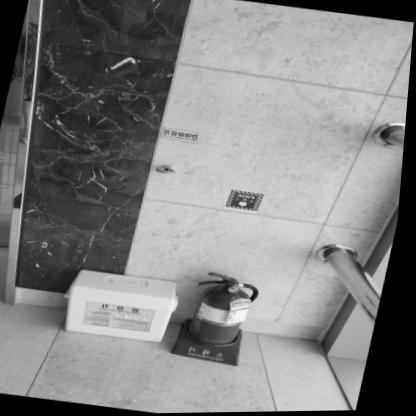DDL: (59, 265, 187, 345)
